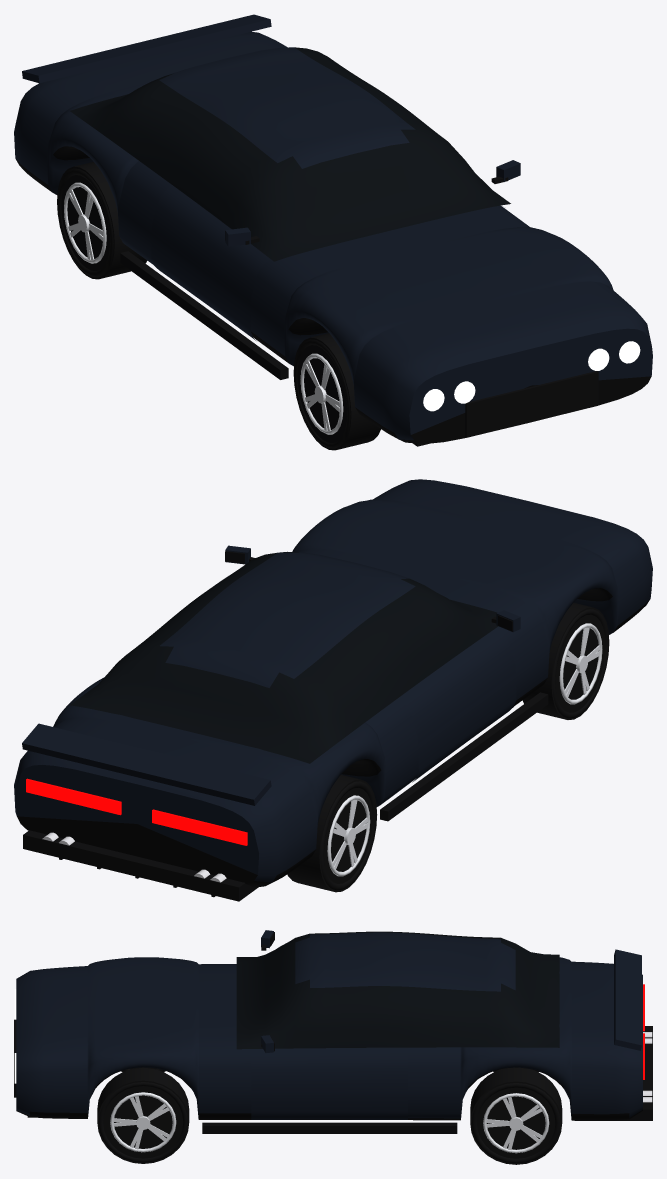
The model's file is brute.glb.
The picture shows the model from 3 angles, top to bottom: view 1: azimuth 30°, elevation 25°; view 2: azimuth 150°, elevation 25°; view 3: azimuth 270°, elevation 25°; orthographic projection. The views are drawn at different scales.
Visible parts, largest first — view 1: Body, Cabin, Details, Panel2, Tire2, Tire4, Rim2, Rim4, HeadLights; view 2: Body, Cabin, Details, Panel2, Tire4, Tire2, TailLights, Rim2, Rim4; view 3: Body, Cabin, Panel, Details, Tire3, Tire, Rim, Rim3.
Part boxes in pixels (x1,y1,x2,y2): Body: (14,31,652,443); Cabin: (70,47,510,261); Details: (22,14,598,446); Panel2: (151,185,269,340); Tire2: (293,333,380,450); Tire4: (57,161,147,279); Rim2: (300,353,343,434); Rim4: (64,182,106,263); HeadLights: (423,341,640,411); Body: (14,479,652,887); Cabin: (70,551,498,763); Details: (22,545,548,901); Panel2: (398,628,516,782); Tire4: (287,774,377,892); Tire2: (522,602,609,719); TailLights: (26,778,247,845); Rim2: (559,623,602,704); Rim4: (327,795,370,876); Body: (16,957,642,1120); Cabin: (236,931,559,1049); Panel: (251,1047,407,1119); Details: (14,930,652,1133); Tire3: (470,1067,562,1164); Tire: (97,1067,189,1163); Rim: (110,1092,176,1152); Rim3: (483,1093,549,1153).
Size of the model in its own units: 2.16 by 1.42 by 5.14.
